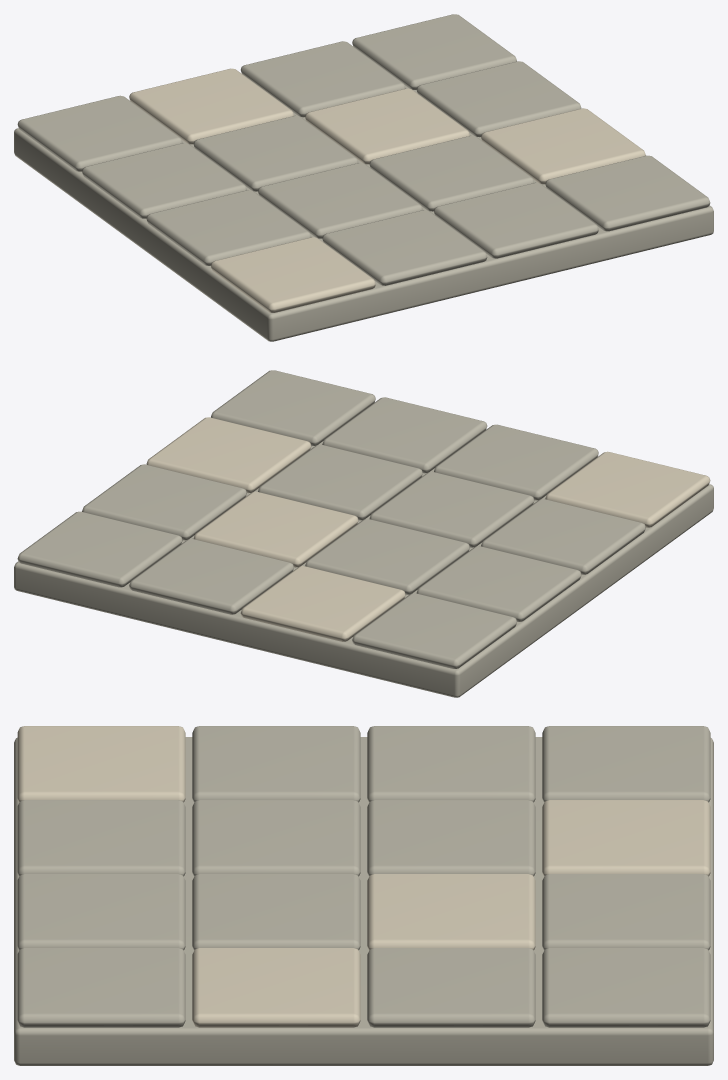
File: SM_Floor_Stone_4m.fbx
3 views of the same model, one above another, from view 1: azimuth 30°, elevation 25°; view 2: azimuth 150°, elevation 25°; view 3: azimuth 270°, elevation 25° (orthographic). The views are drawn at different scales.
Visible parts, largest first — view 1: SM_Floor_Stone_4m; view 2: SM_Floor_Stone_4m; view 3: SM_Floor_Stone_4m.
Boxes of the visible parts, <box> form: SM_Floor_Stone_4m: <box>14,14,713,341</box>; SM_Floor_Stone_4m: <box>14,370,713,697</box>; SM_Floor_Stone_4m: <box>14,726,713,1065</box>.
Bounding box in the file's own units: 4 × 0.32 × 4.
